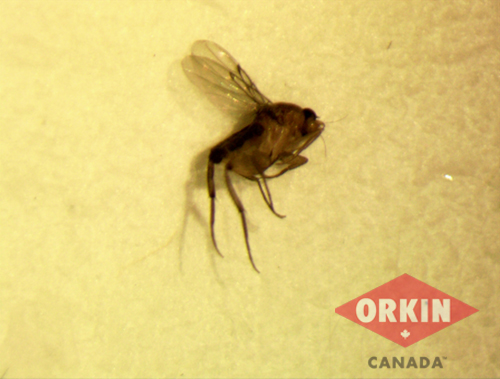phorid fly: (140, 28, 343, 278)
